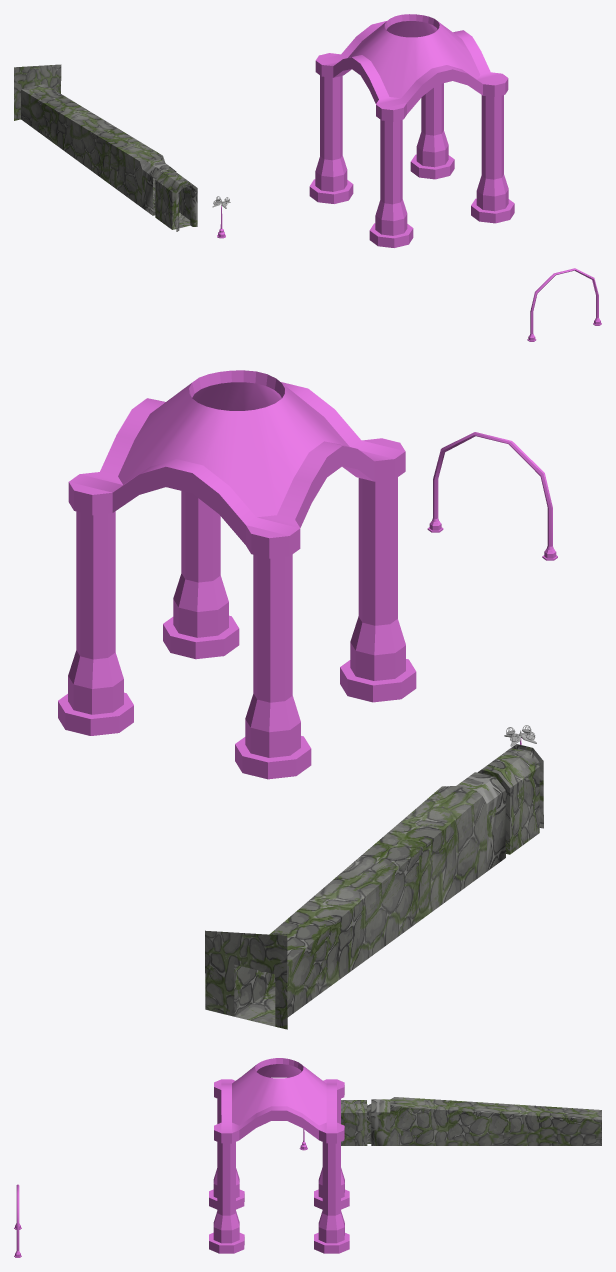
File: tunel_lamparas.fbx
3 renders of one model, top to bottom at view 1: azimuth 30°, elevation 25°; view 2: azimuth 150°, elevation 25°; view 3: azimuth 270°, elevation 25°, orthographic. The views are drawn at different scales.
Parts seen in each view (by area): view 1: arcos_UVs, polySurface2, pasted__pared_entradas_UVs, arco_UVs; view 2: arcos_UVs, polySurface2, pasted__pared_entradas_UVs, arco_UVs; view 3: arcos_UVs, polySurface2, pasted__pared_entradas_UVs, arco_UVs.
Part boxes in pixels (<box>): arcos_UVs: <box>309,14,514,247</box>; polySurface2: <box>14,64,176,215</box>; pasted__pared_entradas_UVs: <box>153,167,197,231</box>; arco_UVs: <box>527,268,601,341</box>; arcos_UVs: <box>58,370,416,779</box>; polySurface2: <box>205,772,505,1029</box>; pasted__pared_entradas_UVs: <box>477,744,543,854</box>; arco_UVs: <box>427,432,557,560</box>; arcos_UVs: <box>209,1058,349,1253</box>; polySurface2: <box>371,1097,601,1145</box>; pasted__pared_entradas_UVs: <box>341,1100,371,1145</box>; arco_UVs: <box>14,1184,21,1257</box>.
Size of the model in its own units: 49.42 by 33.16 by 102.
